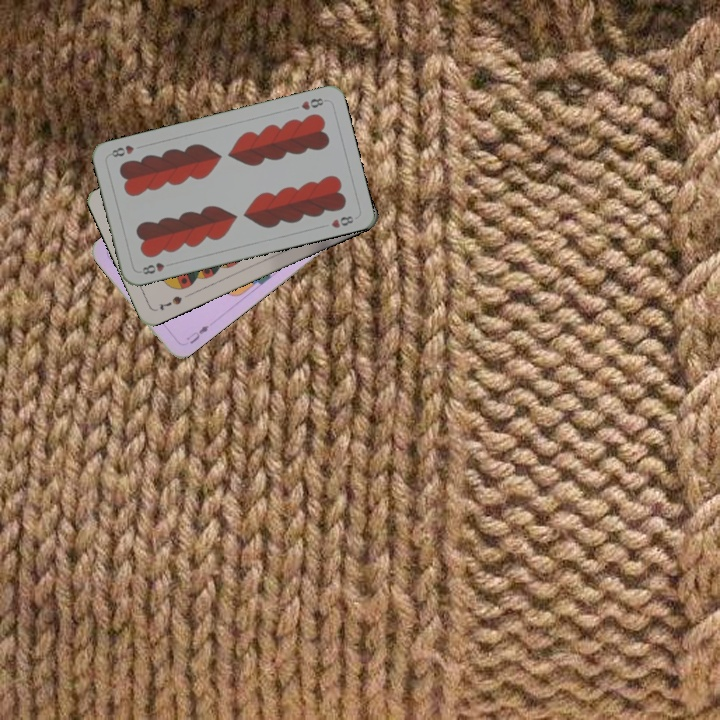EU: (182, 321, 212, 346)
H8: (138, 258, 176, 277), (297, 94, 329, 113)
S7: (155, 292, 185, 313)
